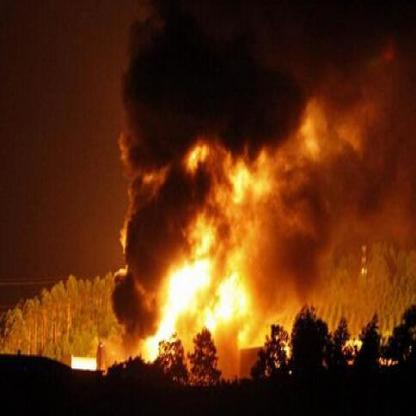fire: (139, 162, 342, 352)
smoke: (107, 5, 412, 260)
